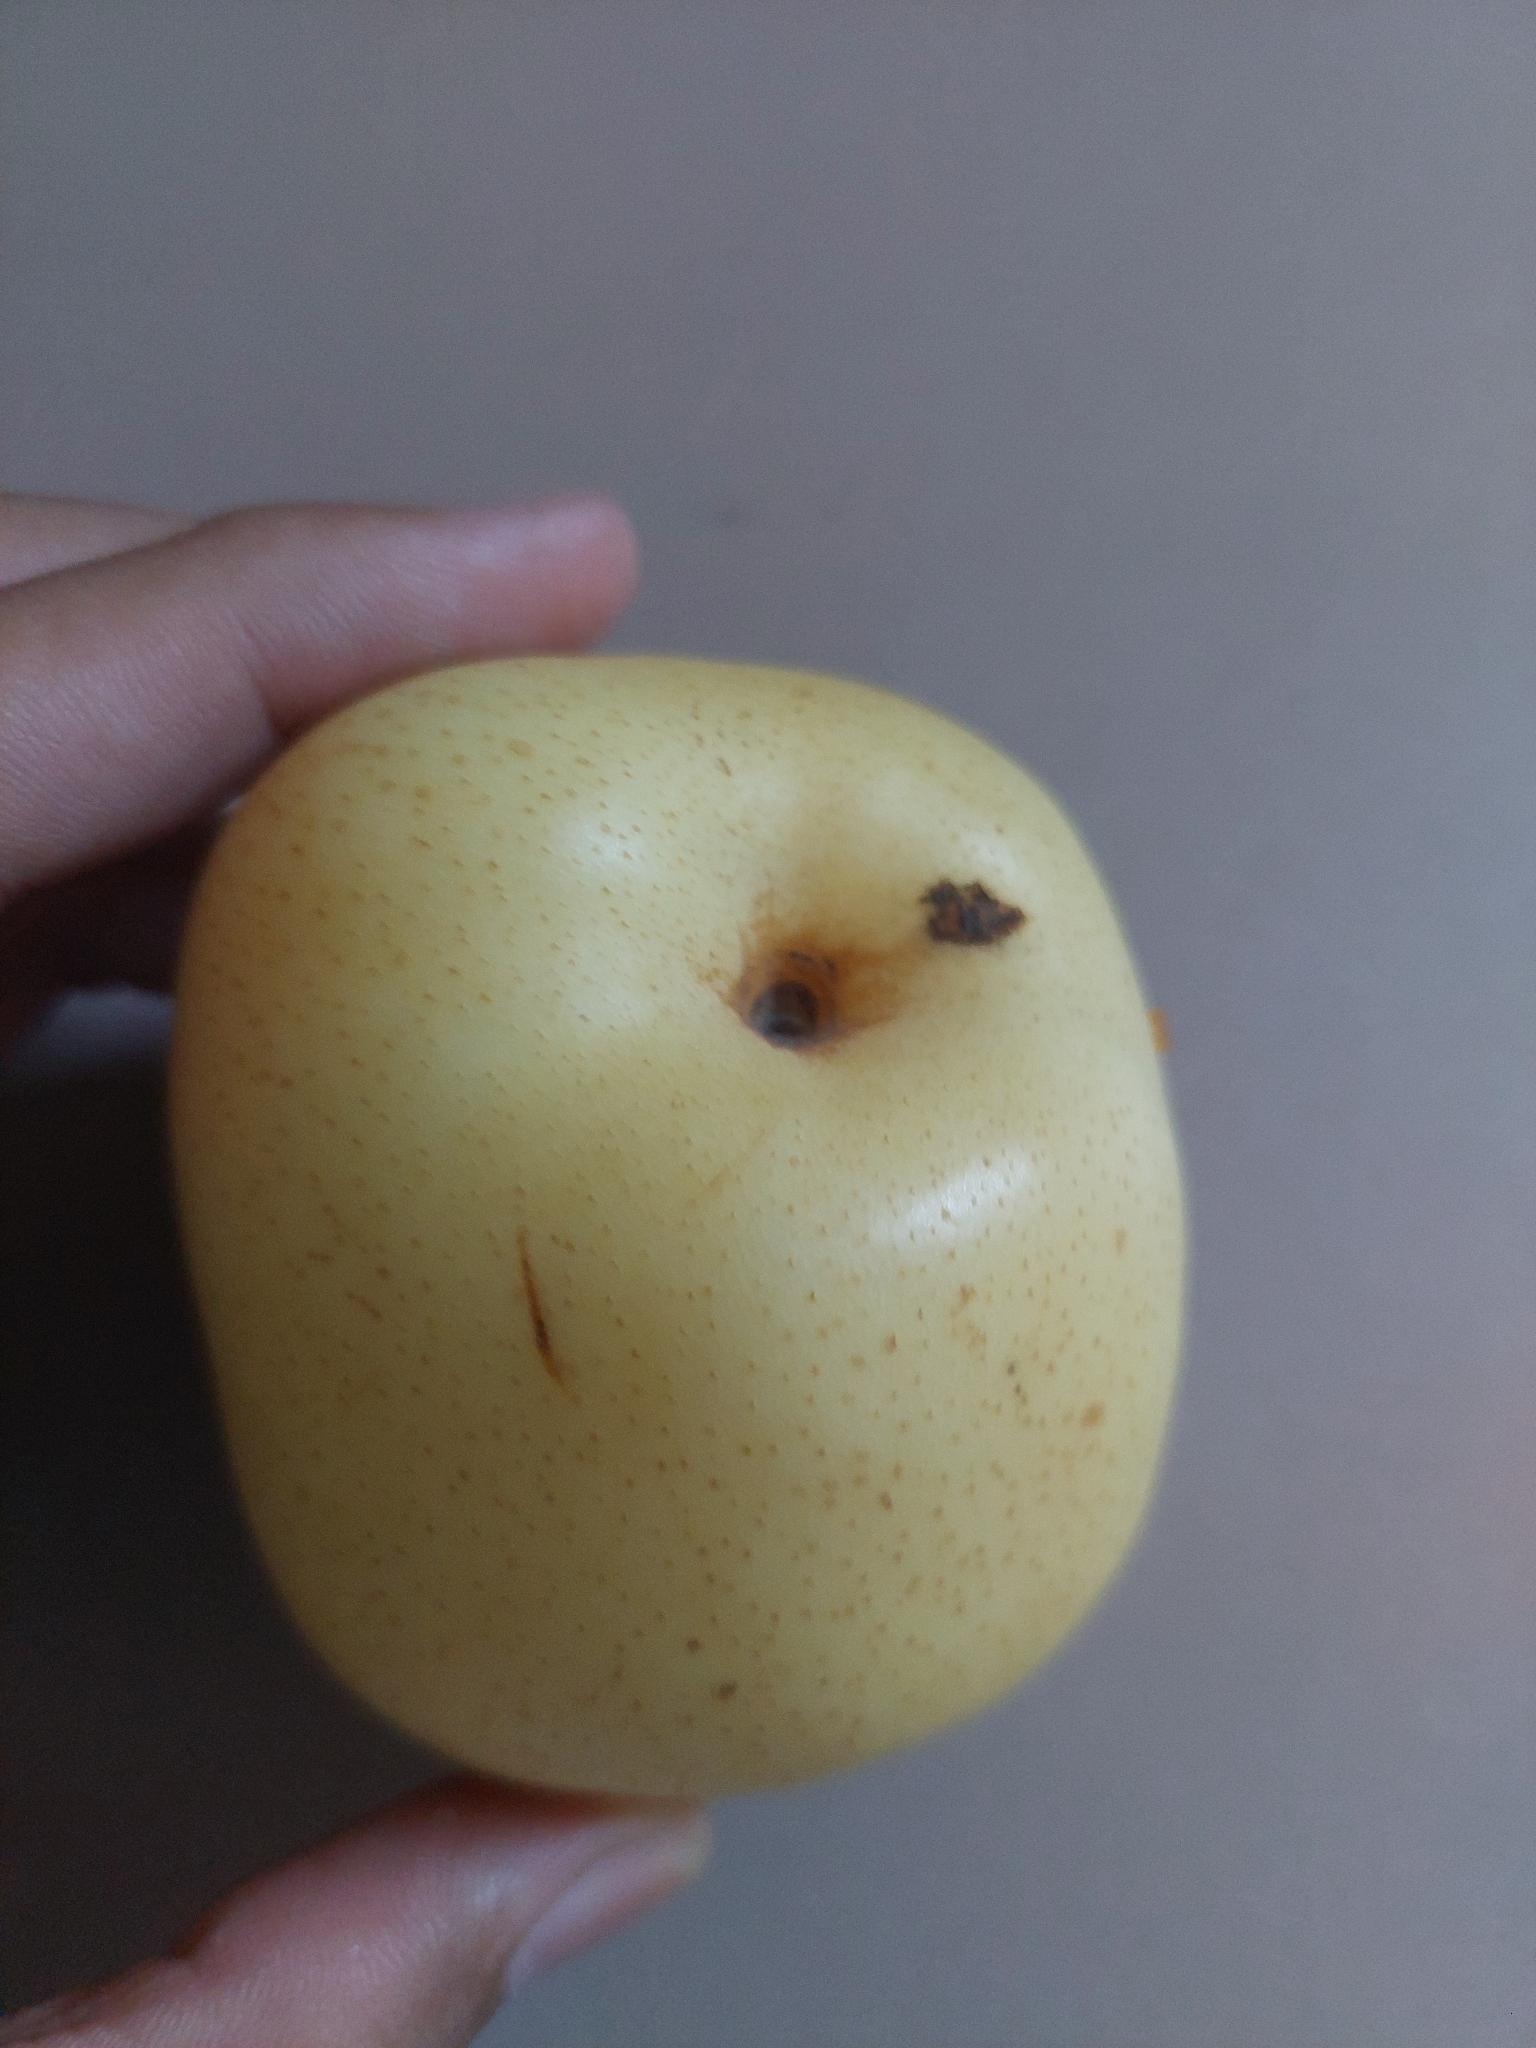Good Pear: (177, 648, 1200, 1792)
